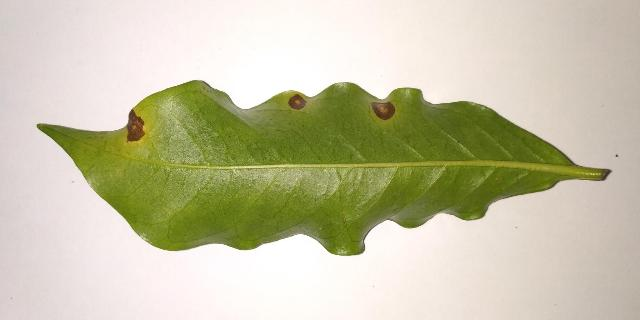phoma: (127, 110, 145, 141), (372, 102, 395, 120), (288, 94, 306, 110)
